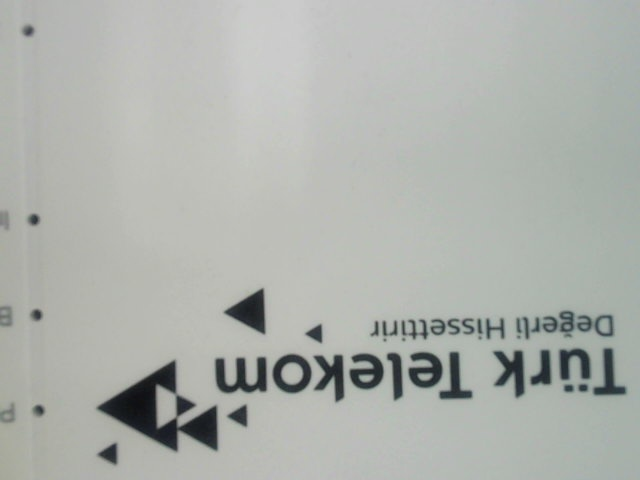AQ_TURKTelekom: (92, 278, 629, 467)
